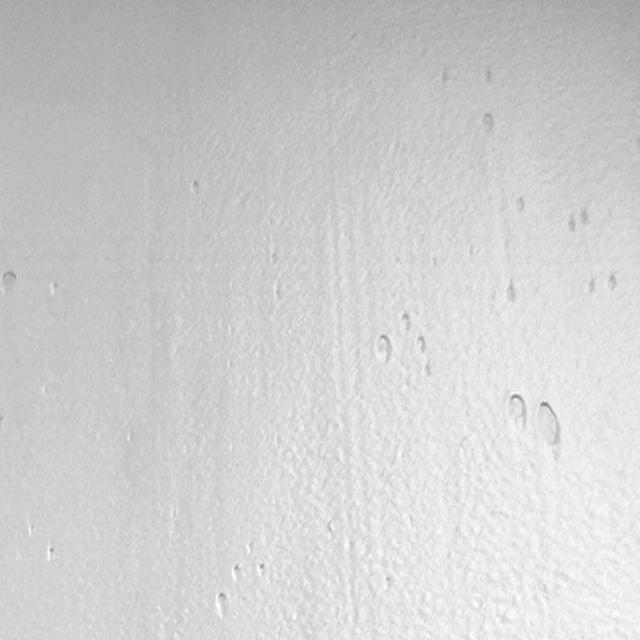pin holes: (529, 399, 563, 453), (502, 392, 526, 430), (373, 333, 397, 366), (1, 270, 20, 298), (476, 114, 496, 140), (502, 280, 520, 306), (214, 590, 229, 618), (477, 67, 495, 90), (413, 333, 430, 357), (396, 312, 414, 334), (45, 280, 63, 302), (574, 209, 590, 232), (603, 272, 619, 294), (511, 194, 526, 216), (270, 282, 285, 304), (186, 180, 202, 200), (43, 544, 57, 564), (230, 564, 242, 585), (418, 362, 432, 380), (582, 280, 596, 298), (565, 218, 578, 236), (266, 252, 278, 270), (25, 521, 38, 537), (382, 576, 395, 592), (245, 541, 255, 557), (256, 562, 266, 576)
